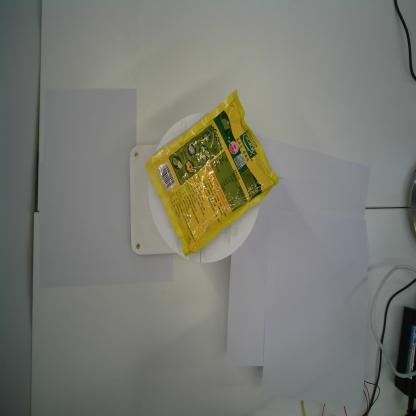Seasoner: (143, 85, 281, 259)
